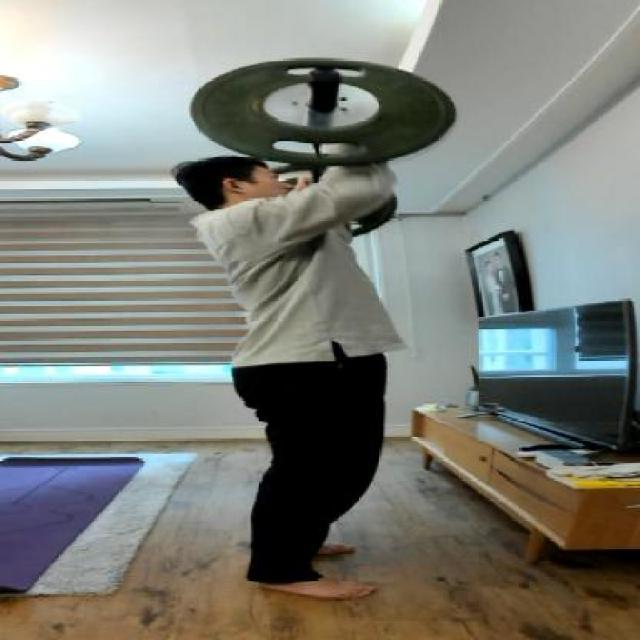Barbell: (303, 63, 342, 86)
